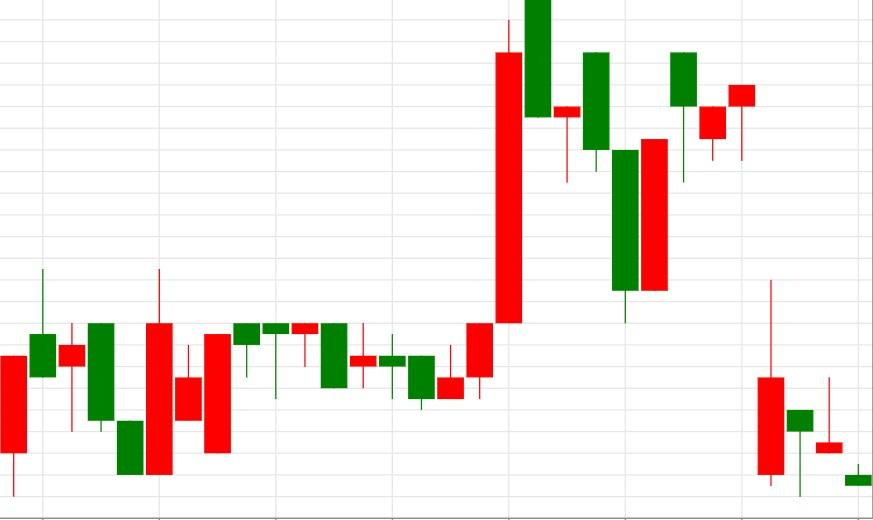bullish_engulfing_rise: (28, 269, 174, 476)
three_white_soldiers_rise: (232, 19, 523, 411)
